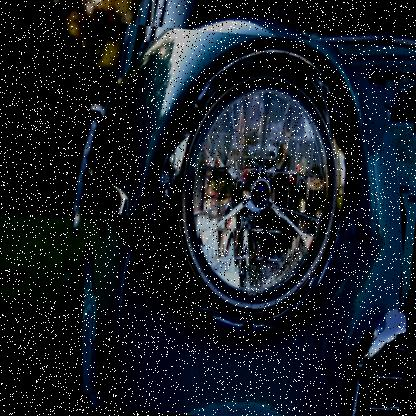Car: (51, 20, 415, 415)
